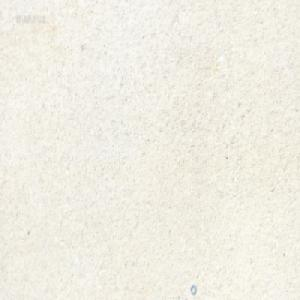Washer: (190, 284, 197, 295)
